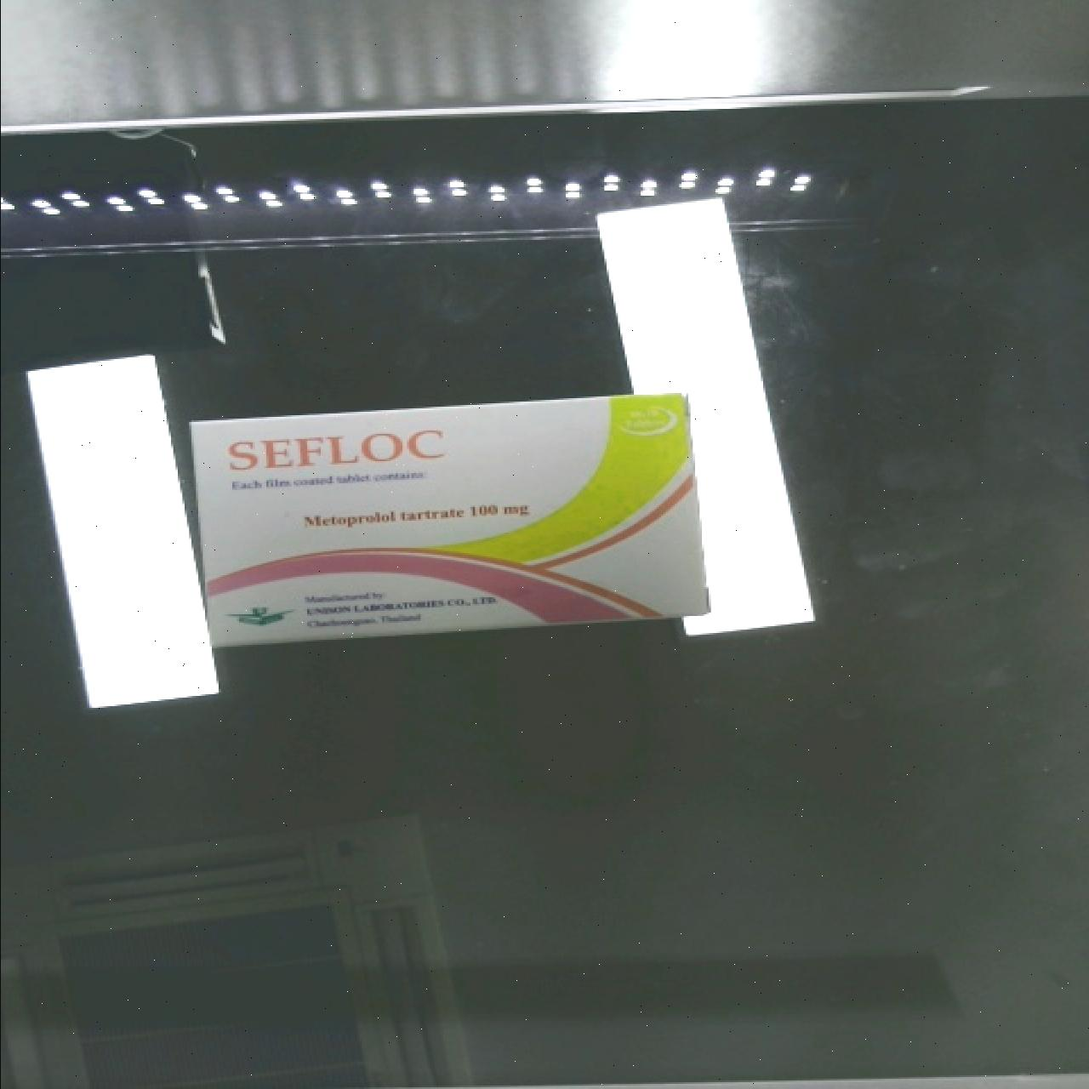medicine_label_obb: (202, 408, 459, 490)
